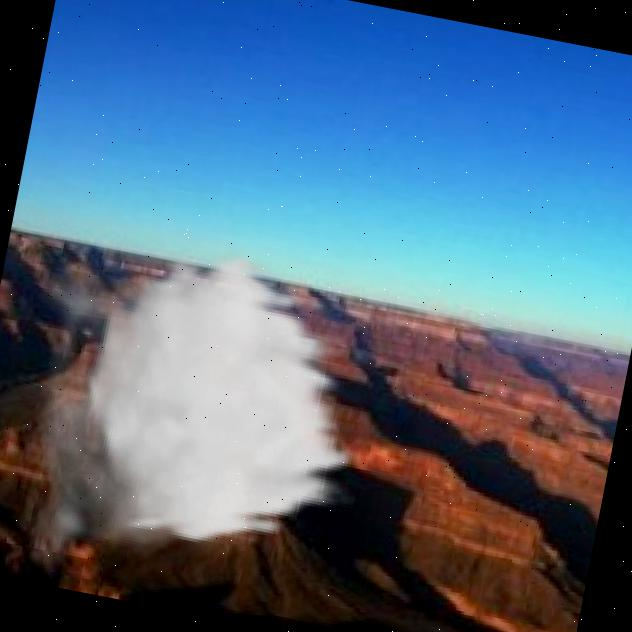smoke: (0, 214, 397, 632)
